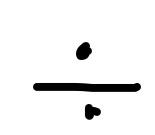div: (32, 43, 142, 117)
